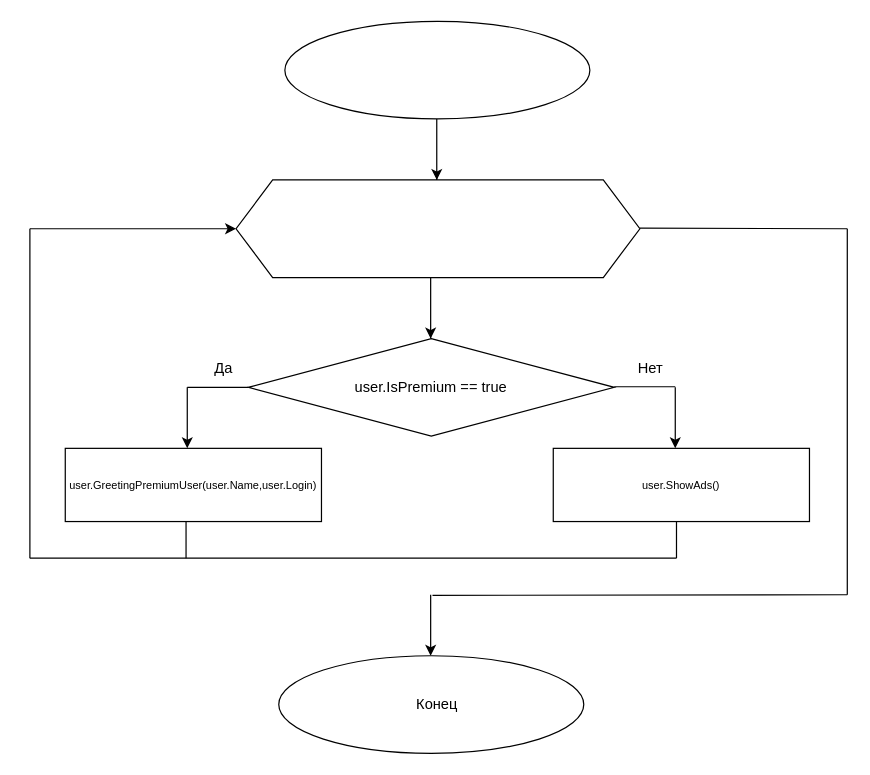
Some shapes in this 870 by 775 pixel diagram are drawn without their labels. Here are the shapes that lost their labels. From the top down, the box of each, then its label:
(284, 20, 590, 119): Начало
(235, 179, 640, 278): foreach (User user in users)
